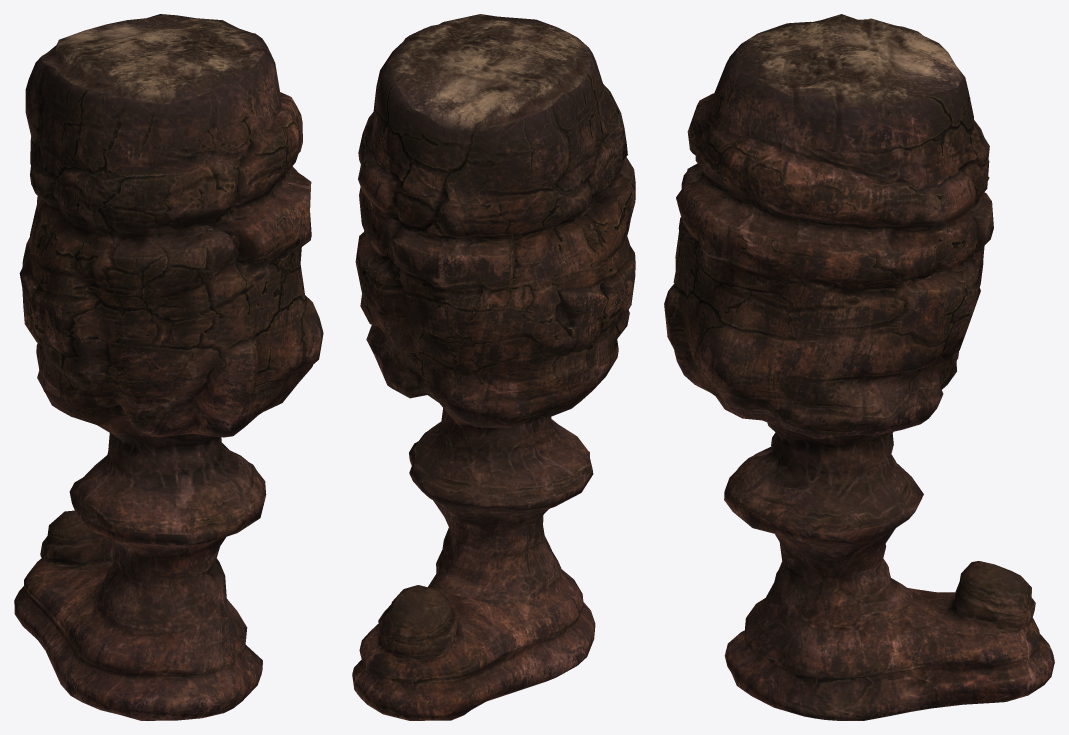
Rendered from rock_red_medium_pillar01.dae.
The picture shows the model from 3 angles, left to right: view 1: azimuth 30°, elevation 25°; view 2: azimuth 150°, elevation 25°; view 3: azimuth 270°, elevation 25°; orthographic projection. The views are drawn at different scales.
Visible parts, largest first — view 1: Mesh; view 2: Mesh; view 3: Mesh.
Part boxes in pixels (x1,y1,x2,y2): Mesh: [14, 14, 323, 720]; Mesh: [352, 14, 635, 720]; Mesh: [664, 14, 1054, 720].
Bounding box in the file's own units: 1.77 × 4.24 × 2.34.
